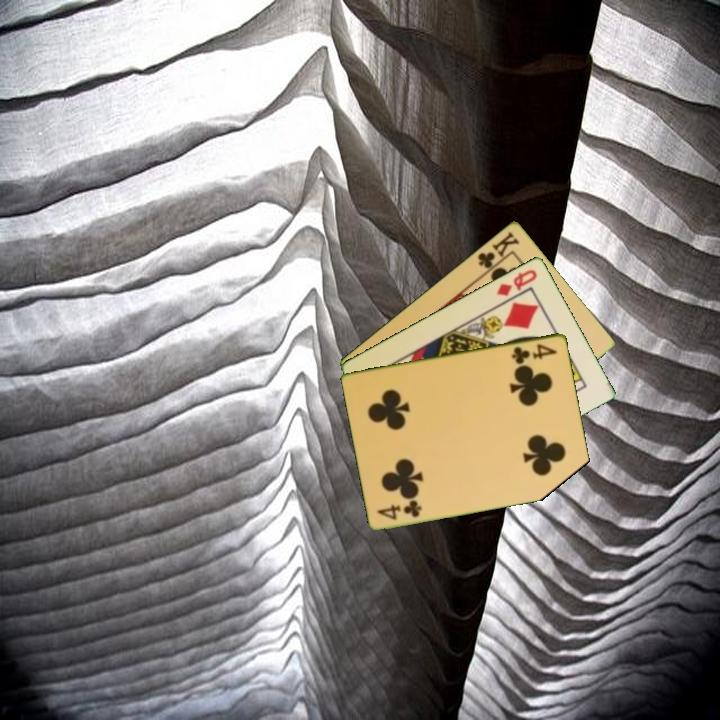4c: (508, 340, 560, 366), (373, 497, 425, 522)
Kc: (474, 227, 523, 276)
Qd: (493, 265, 540, 299)
